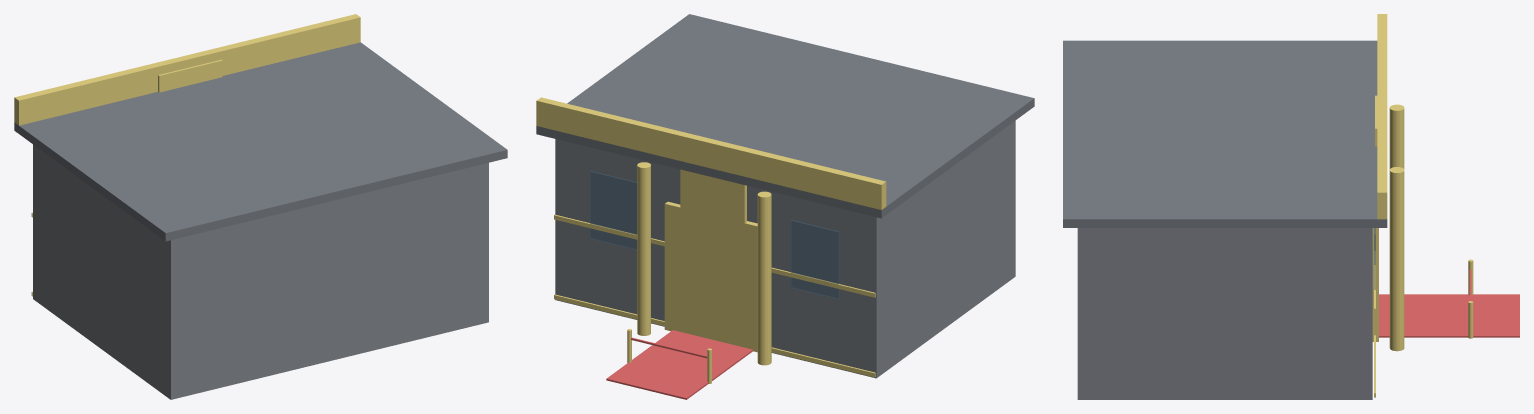
The model's file is vip_lounge.fbx.
3 views of the same model, side by side, from view 1: azimuth 30°, elevation 25°; view 2: azimuth 150°, elevation 25°; view 3: azimuth 270°, elevation 25° (orthographic). The views are drawn at different scales.
Visible parts, largest first — view 1: MainBody, Roof, Parapet, StarBase; view 2: MainBody, Roof, DoorFrame, Parapet, Carpet, Win_-2.5, Win_2.5, StarBase, Col_L, Col_R, GoldTrim_0.1, GoldTrim_2; view 3: Roof, MainBody, Carpet, Col_R, Parapet, Col_L, DoorFrame.
Boxes of the visible parts, left/top/right/bottom form: MainBody: left=33, top=144, right=488, bottom=399; Roof: left=14, top=42, right=507, bottom=241; Parapet: left=14, top=14, right=360, bottom=125; StarBase: left=158, top=59, right=222, bottom=92; MainBody: left=555, top=120, right=1015, bottom=378; Roof: left=536, top=14, right=1034, bottom=218; DoorFrame: left=664, top=201, right=757, bottom=352; Parapet: left=536, top=97, right=886, bottom=209; Carpet: left=606, top=330, right=752, bottom=399; Win_-2.5: left=790, top=220, right=839, bottom=299; Win_2.5: left=590, top=171, right=637, bottom=249; StarBase: left=680, top=169, right=746, bottom=223; Col_L: left=757, top=191, right=771, bottom=365; Col_R: left=637, top=162, right=650, bottom=335; GoldTrim_0.1: left=554, top=294, right=875, bottom=377; GoldTrim_2: left=554, top=214, right=875, bottom=297; Roof: left=1063, top=40, right=1387, bottom=227; MainBody: left=1077, top=228, right=1372, bottom=399; Carpet: left=1379, top=294, right=1519, bottom=337; Col_R: left=1389, top=167, right=1404, bottom=351; Parapet: left=1377, top=14, right=1387, bottom=219; Col_L: left=1389, top=104, right=1404, bottom=169; DoorFrame: left=1372, top=228, right=1378, bottom=341.
Bounding box in the file's own units: 8.6 × 4.8 × 9.3.
